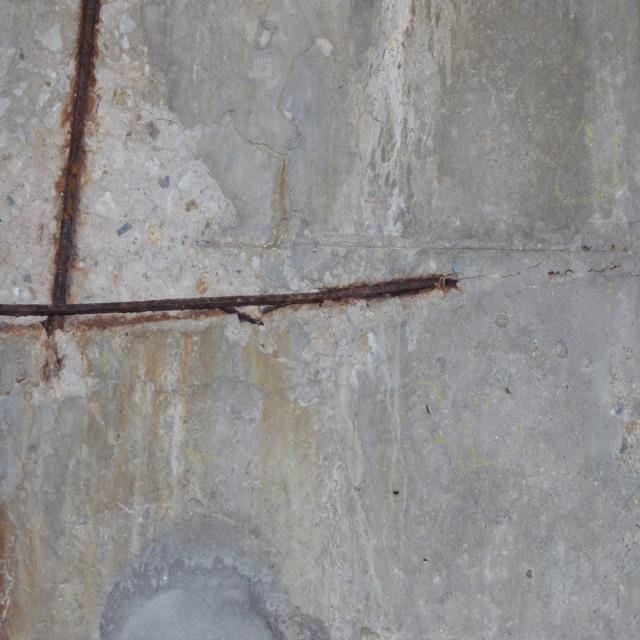corrosion: (1, 0, 479, 389)
